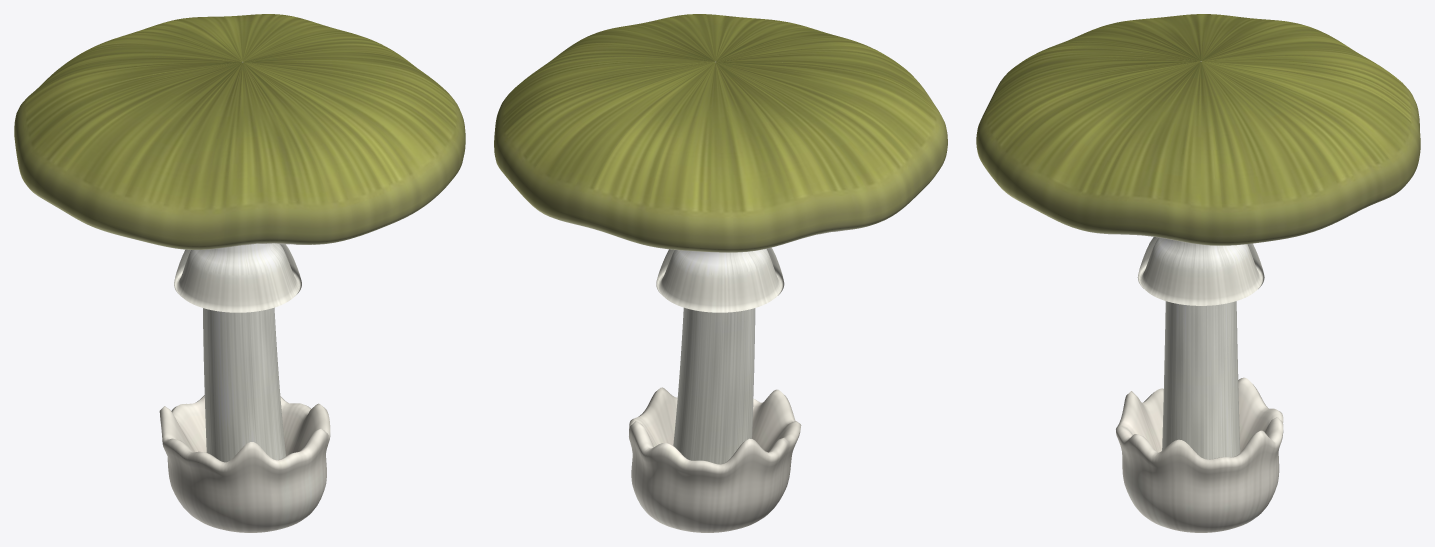
The model's file is amanita-phalloides-drawn.glb.
3 renders of one model, left to right at view 1: azimuth 30°, elevation 25°; view 2: azimuth 150°, elevation 25°; view 3: azimuth 270°, elevation 25°, orthographic.
Bounding box in the file's own units: 0.8201 × 0.91 × 0.8163.
1 material, 1 textured.
